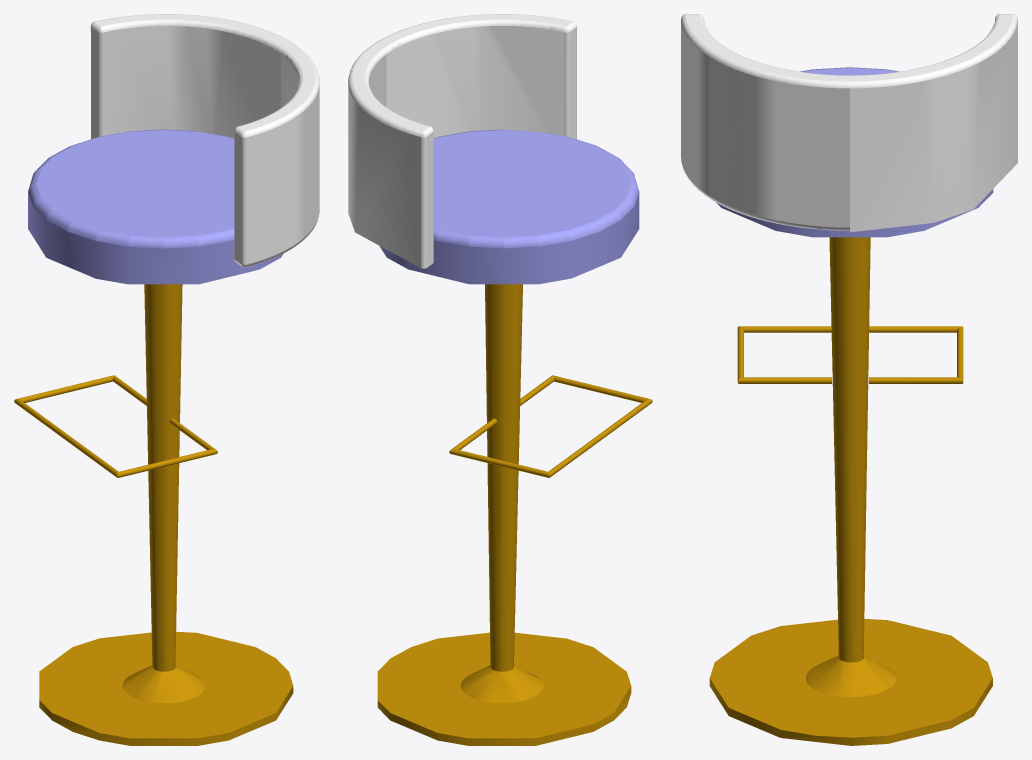
Rendered from Stool decimated.glb.
3 views of the same model, side by side, from view 1: azimuth 30°, elevation 25°; view 2: azimuth 150°, elevation 25°; view 3: azimuth 270°, elevation 25° (orthographic). The views are drawn at different scales.
Visible parts, largest first — view 1: Stool; view 2: Stool; view 3: Stool.
Part boxes in pixels (<box>): Stool: <box>14,14,319,745</box>; Stool: <box>348,14,652,745</box>; Stool: <box>681,14,1017,745</box>.
Size of the model in its own units: 0.4512 by 1.05 by 0.4754.
